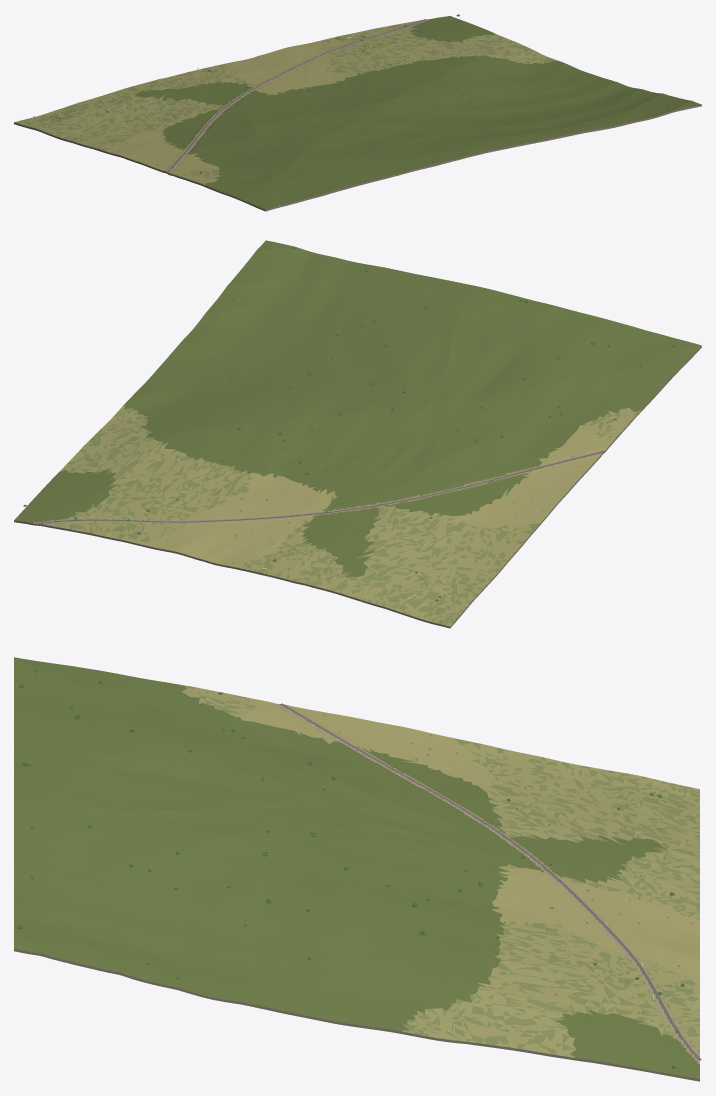
Rendered from parca_+6_+1-yakin.glb.
3 renders of one model, top to bottom at view 1: azimuth 30°, elevation 25°; view 2: azimuth 150°, elevation 25°; view 3: azimuth 270°, elevation 25°, orthographic. The views are drawn at different scales.
Visible parts, largest first — view 1: parca_+6_+1_arazi, parca_+6_+1_bitkiler, parca_+6_+1_yollar; view 2: parca_+6_+1_arazi, parca_+6_+1_yollar, parca_+6_+1_bitkiler; view 3: parca_+6_+1_arazi, parca_+6_+1_yollar, parca_+6_+1_bitkiler.
Part boxes in pixels (box(x1,y1,x2,y2)): parca_+6_+1_arazi: box(14, 16, 701, 211); parca_+6_+1_bitkiler: box(33, 14, 677, 199); parca_+6_+1_yollar: box(167, 19, 426, 172); parca_+6_+1_arazi: box(14, 240, 701, 628); parca_+6_+1_yollar: box(37, 451, 604, 524); parca_+6_+1_bitkiler: box(23, 247, 690, 620); parca_+6_+1_arazi: box(14, 657, 699, 1081); parca_+6_+1_yollar: box(280, 703, 701, 1060); parca_+6_+1_bitkiler: box(18, 662, 699, 1068).
Bounding box in the file's own units: 1003 × 231 × 1003.
